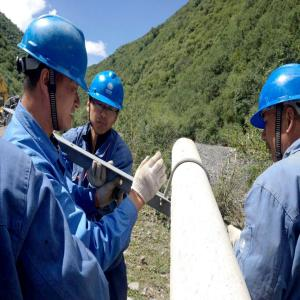blue: (16, 14, 87, 137), (256, 63, 300, 162), (89, 72, 125, 136)
